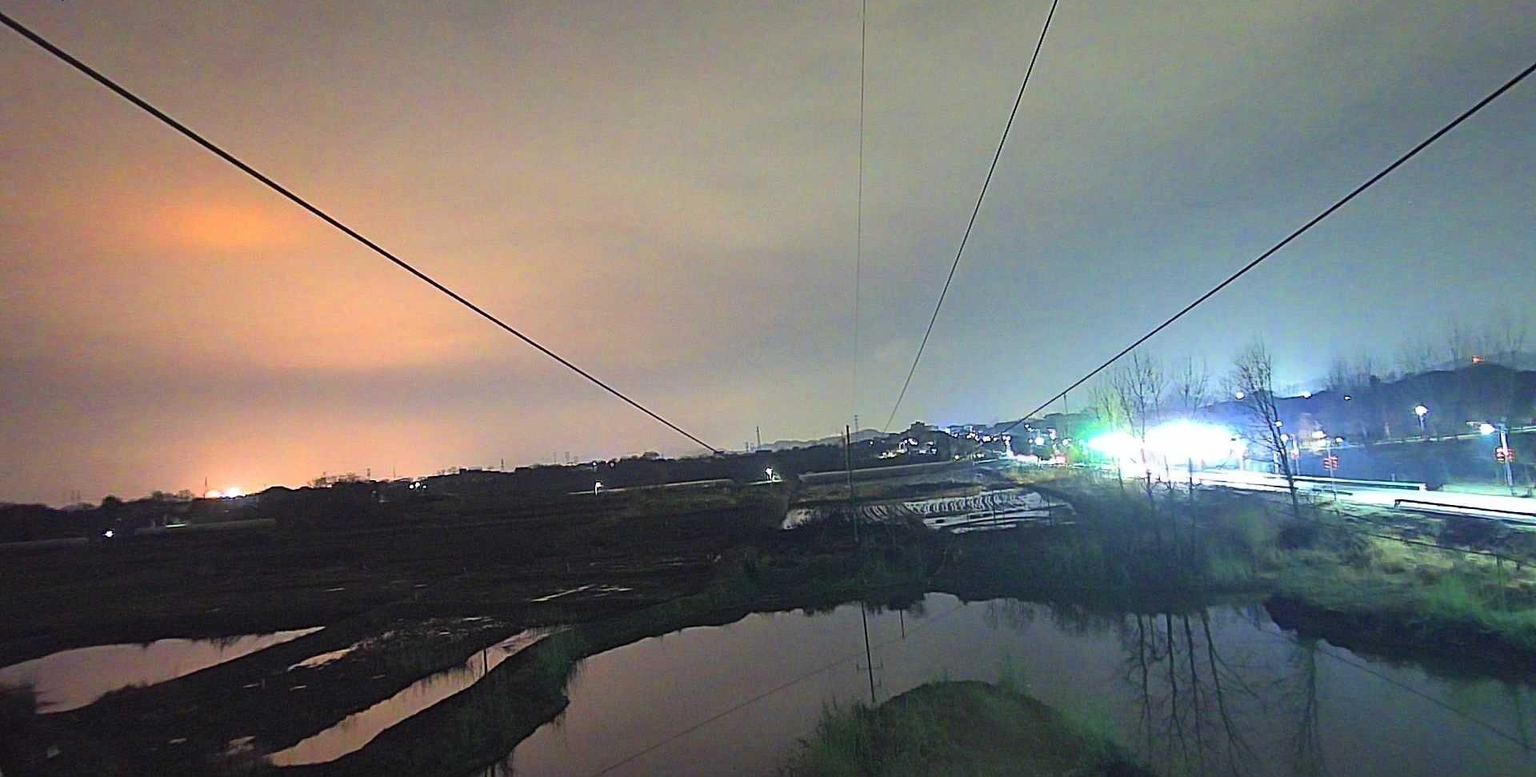过爆灯光: (1144, 416, 1250, 485), (1087, 431, 1144, 478), (1002, 435, 1015, 459), (1038, 455, 1066, 466), (1015, 453, 1038, 465), (221, 487, 244, 498), (205, 489, 220, 498), (1034, 437, 1044, 444)
